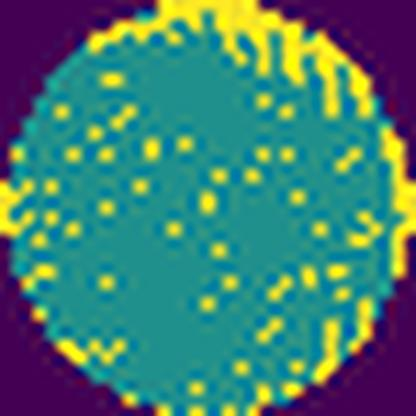Edge-Loc: (87, 0, 415, 116), (374, 128, 415, 280), (0, 172, 41, 243)
